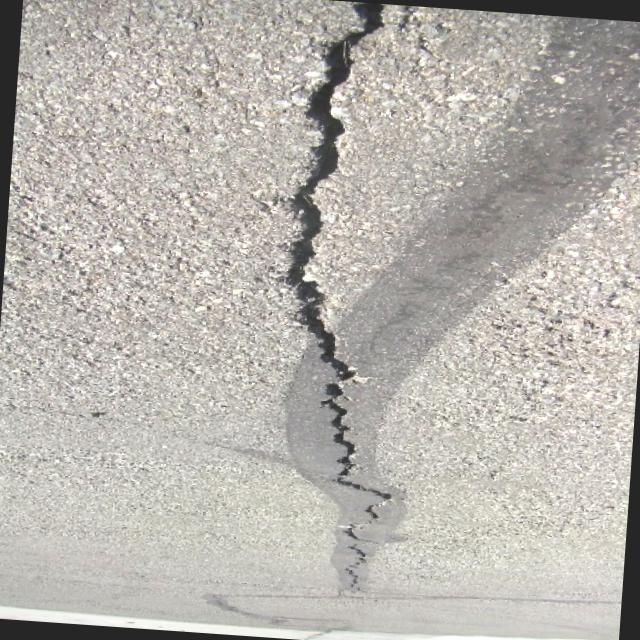crack: (253, 0, 424, 599)
